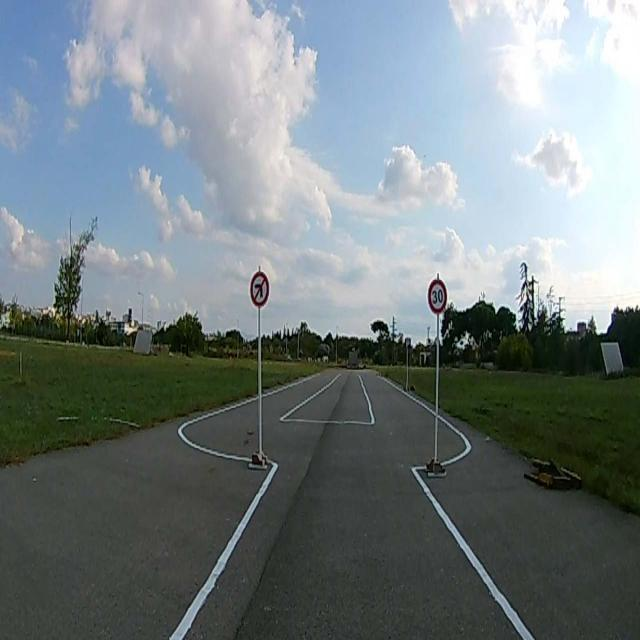30: (429, 280, 447, 316)
soladonulmez: (250, 270, 270, 307)
